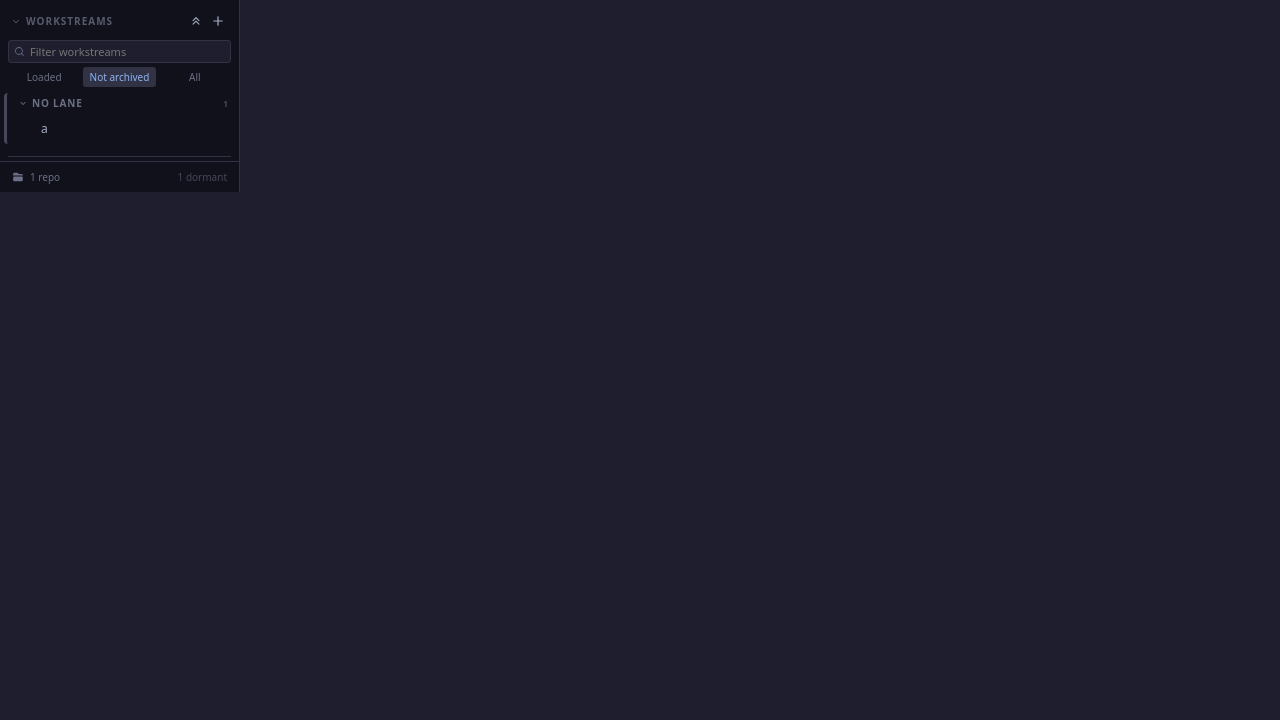
Test: WorkstreamSidebar unified list › opens the Repo Manager and closes it again
Click the button with test id "repo-manager-button". click: (120, 177)
box: [6,166,233,188]
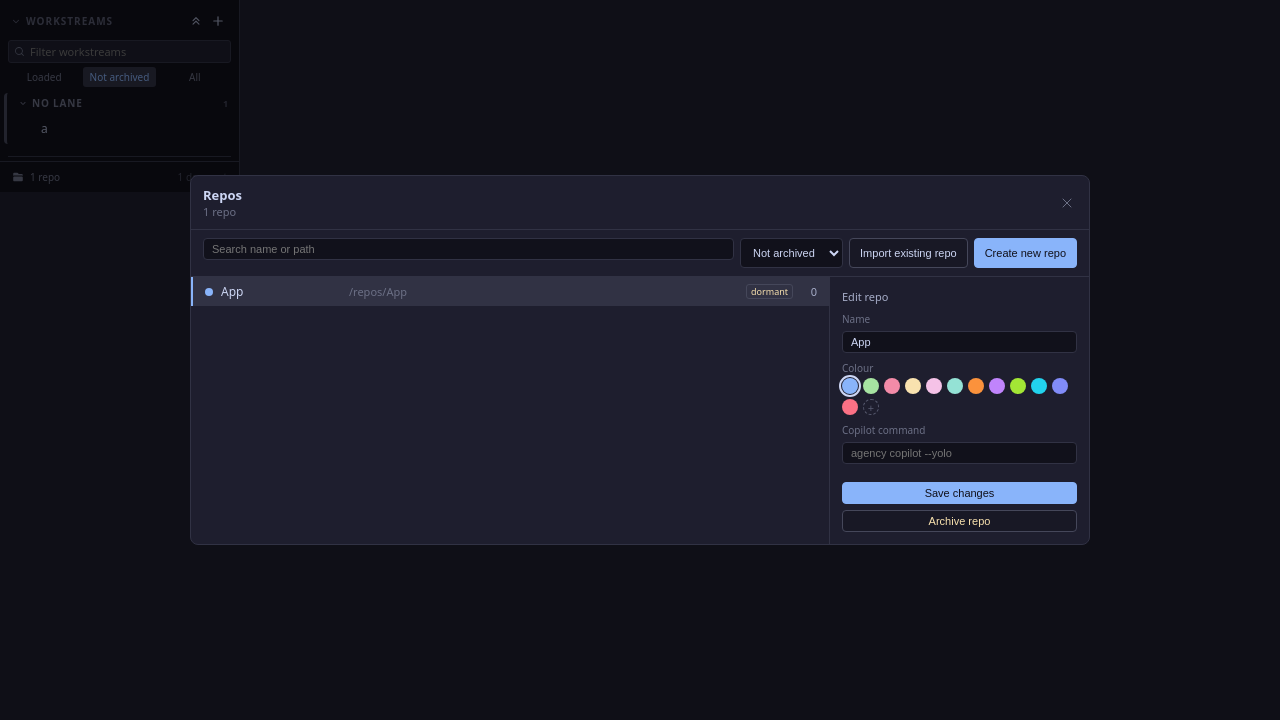
Check: the element with test id "repo-manager-panel" is shown, box [190,175,1090,545]
Click the button with test id "repo-manager-close". click: (1067, 202)
box: [1057,192,1077,212]
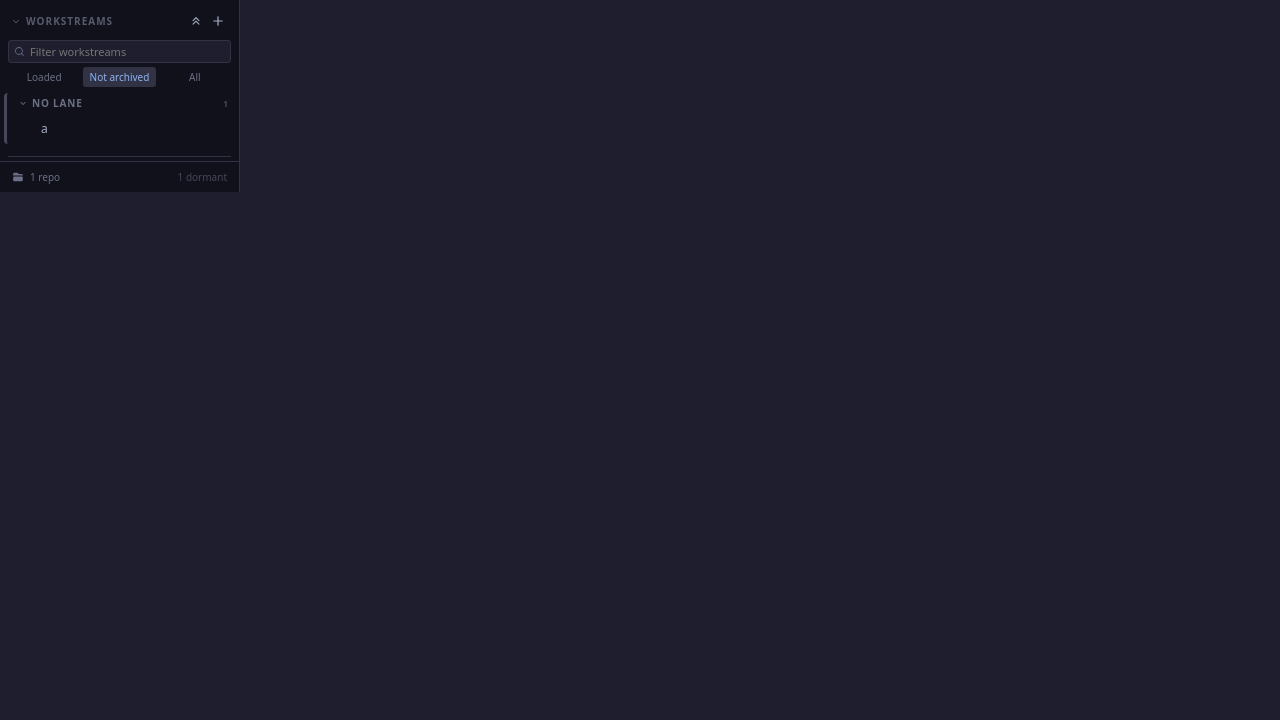
Check: the element with test id "repo-manager-panel" is gone
